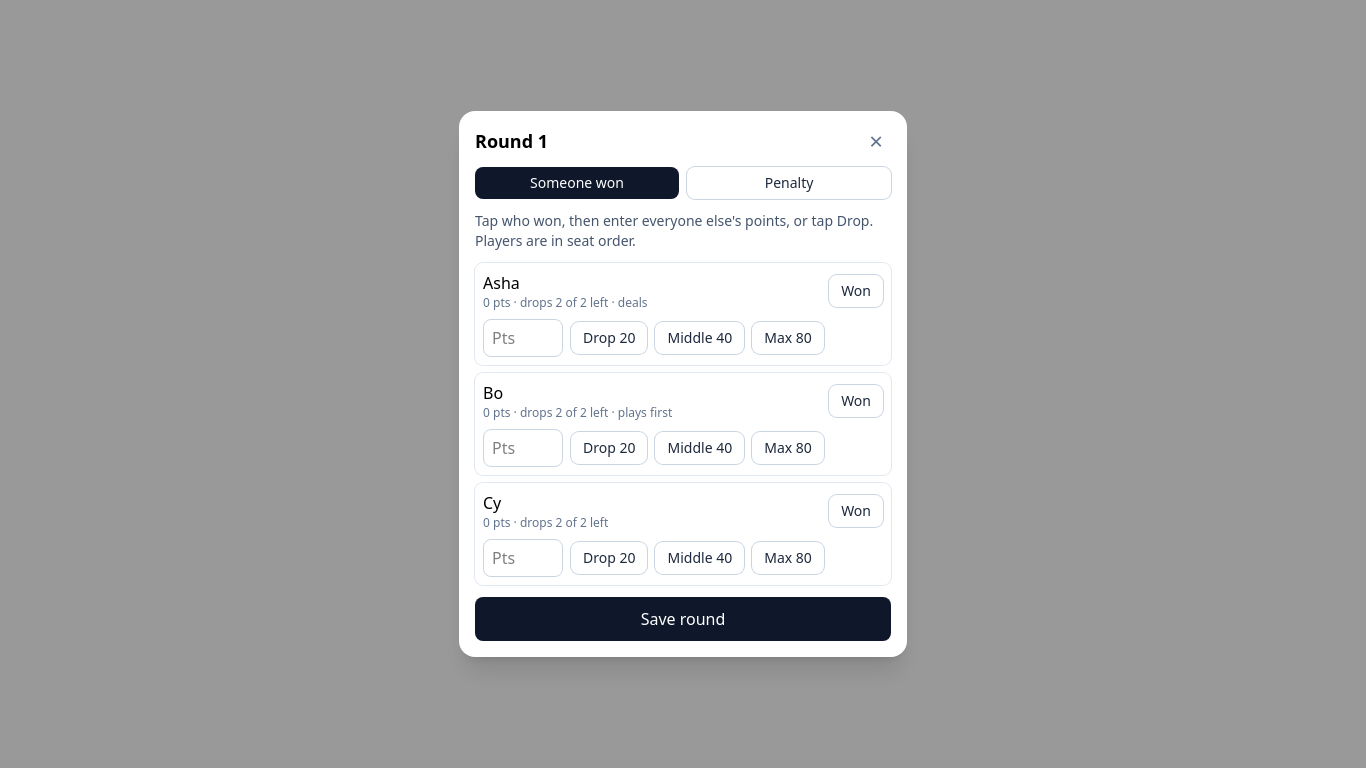
Test case: RoundEntry › refuses points past the cap
The width and height of the screenshot is (1366, 768).
Click the button "Won" in the row of "· deals".
click(856, 291)  # box 829,275 -> 883,307
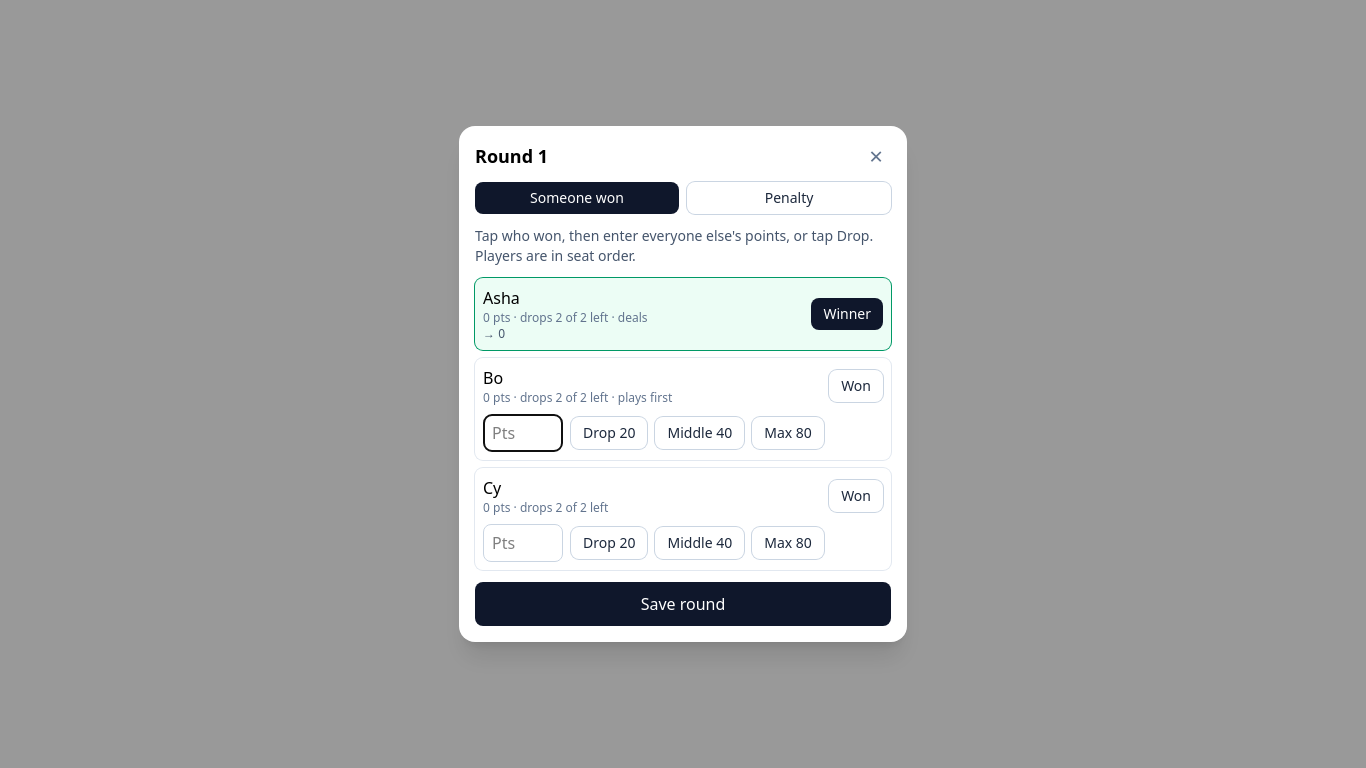
Type "81" into the field named "Bo points".
click(523, 433); type("81")  # box 483,414 -> 563,452
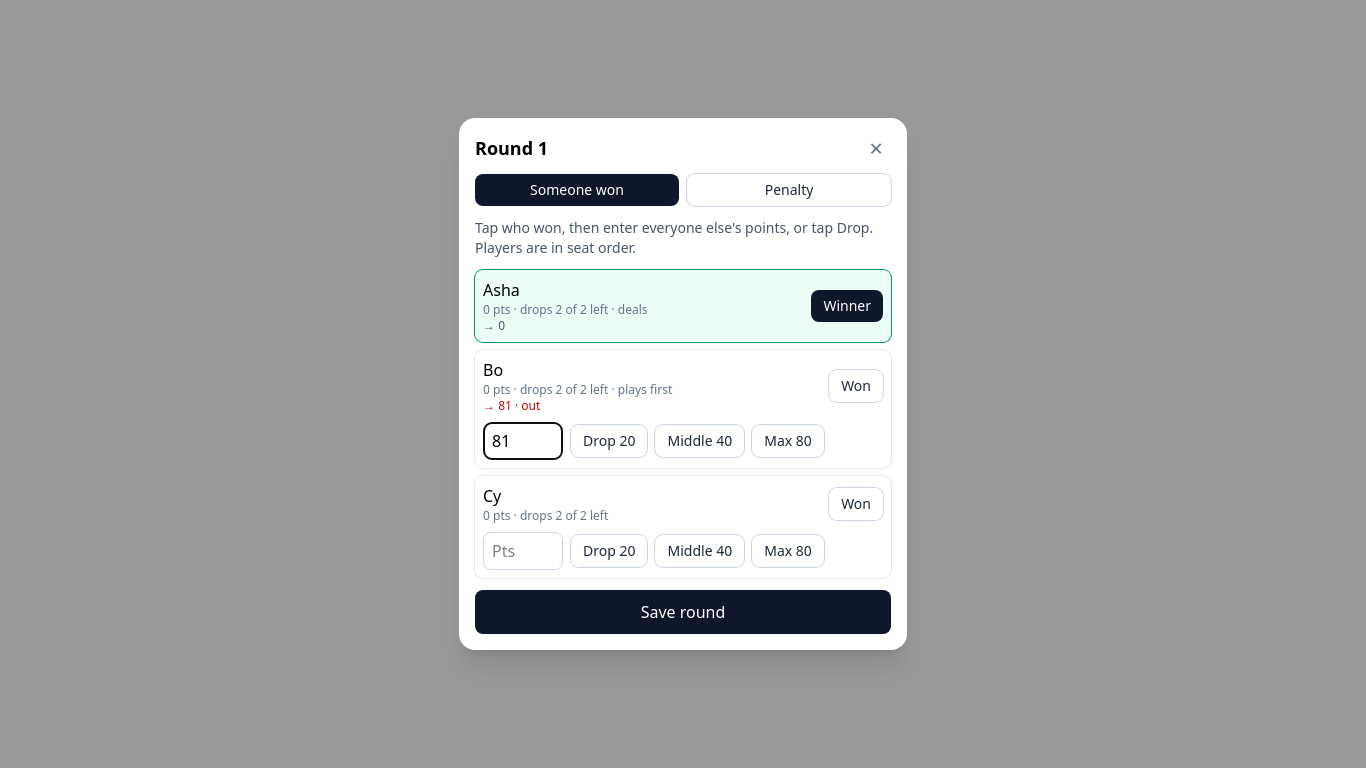
Type "5" into the field named "Cy points".
click(523, 551); type("5")  # box 483,532 -> 563,570
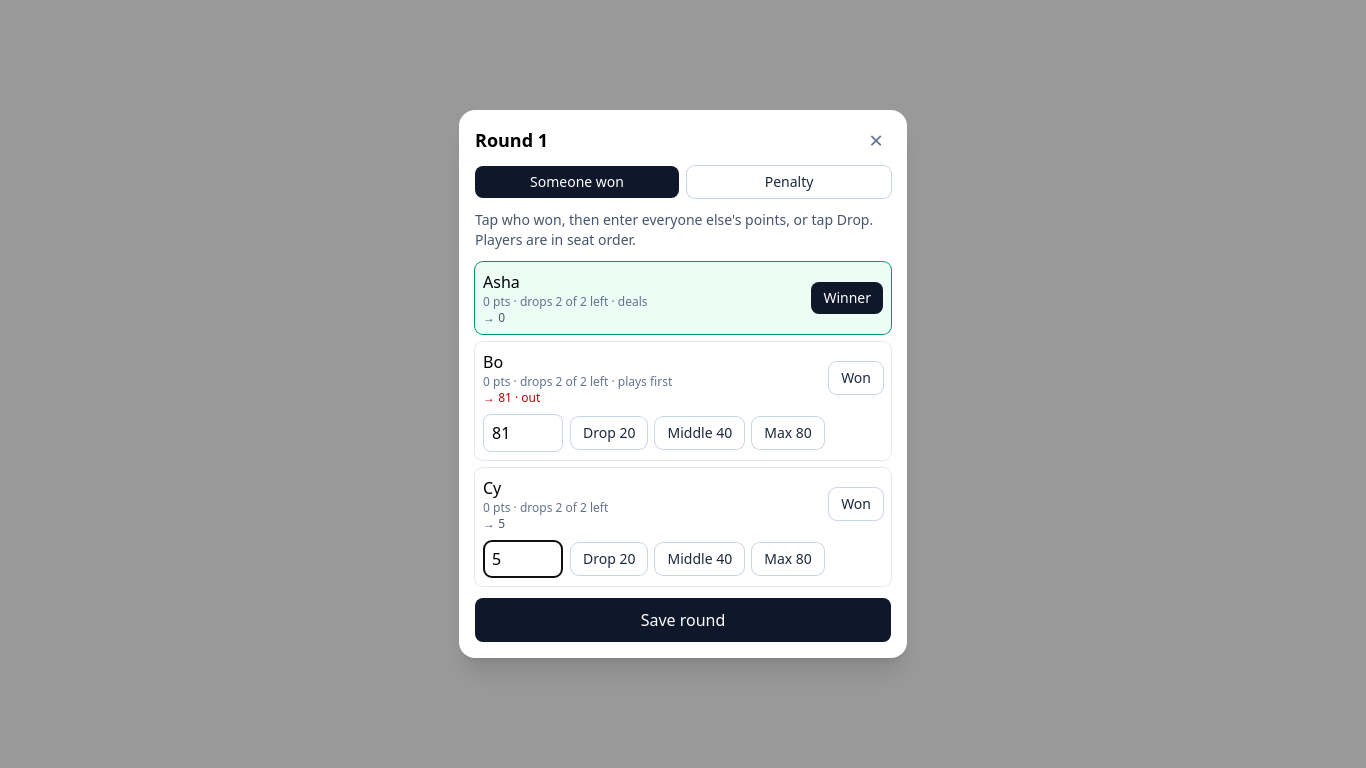
Click the button "Save round".
click(683, 620)  # box 475,598 -> 891,642
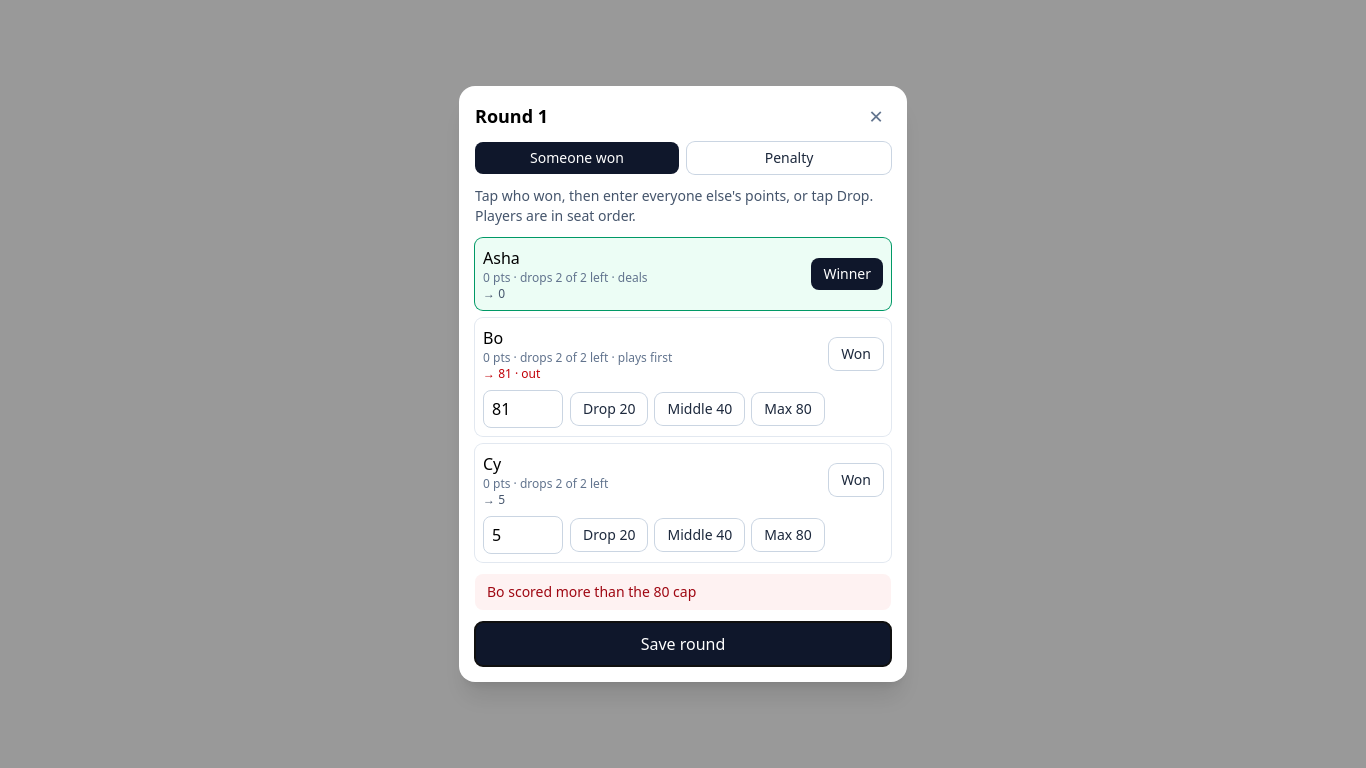
Check: the message shows "cap", box 487,582 -> 696,601
